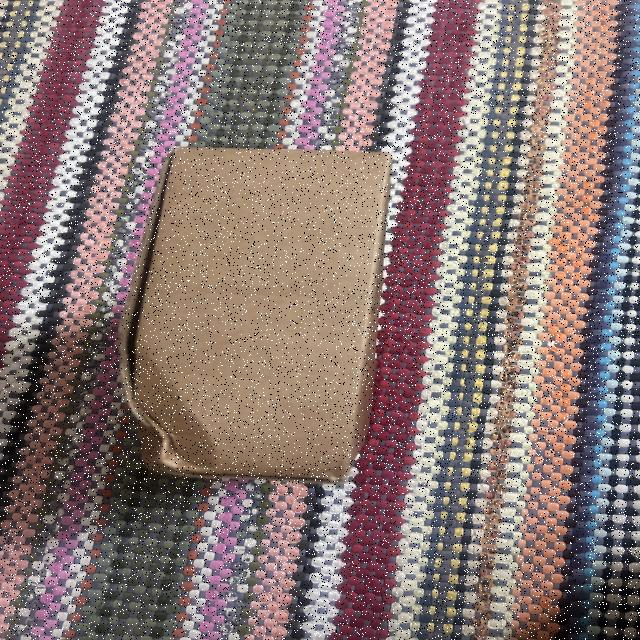damaged: (110, 146, 401, 493), (102, 354, 222, 486)
